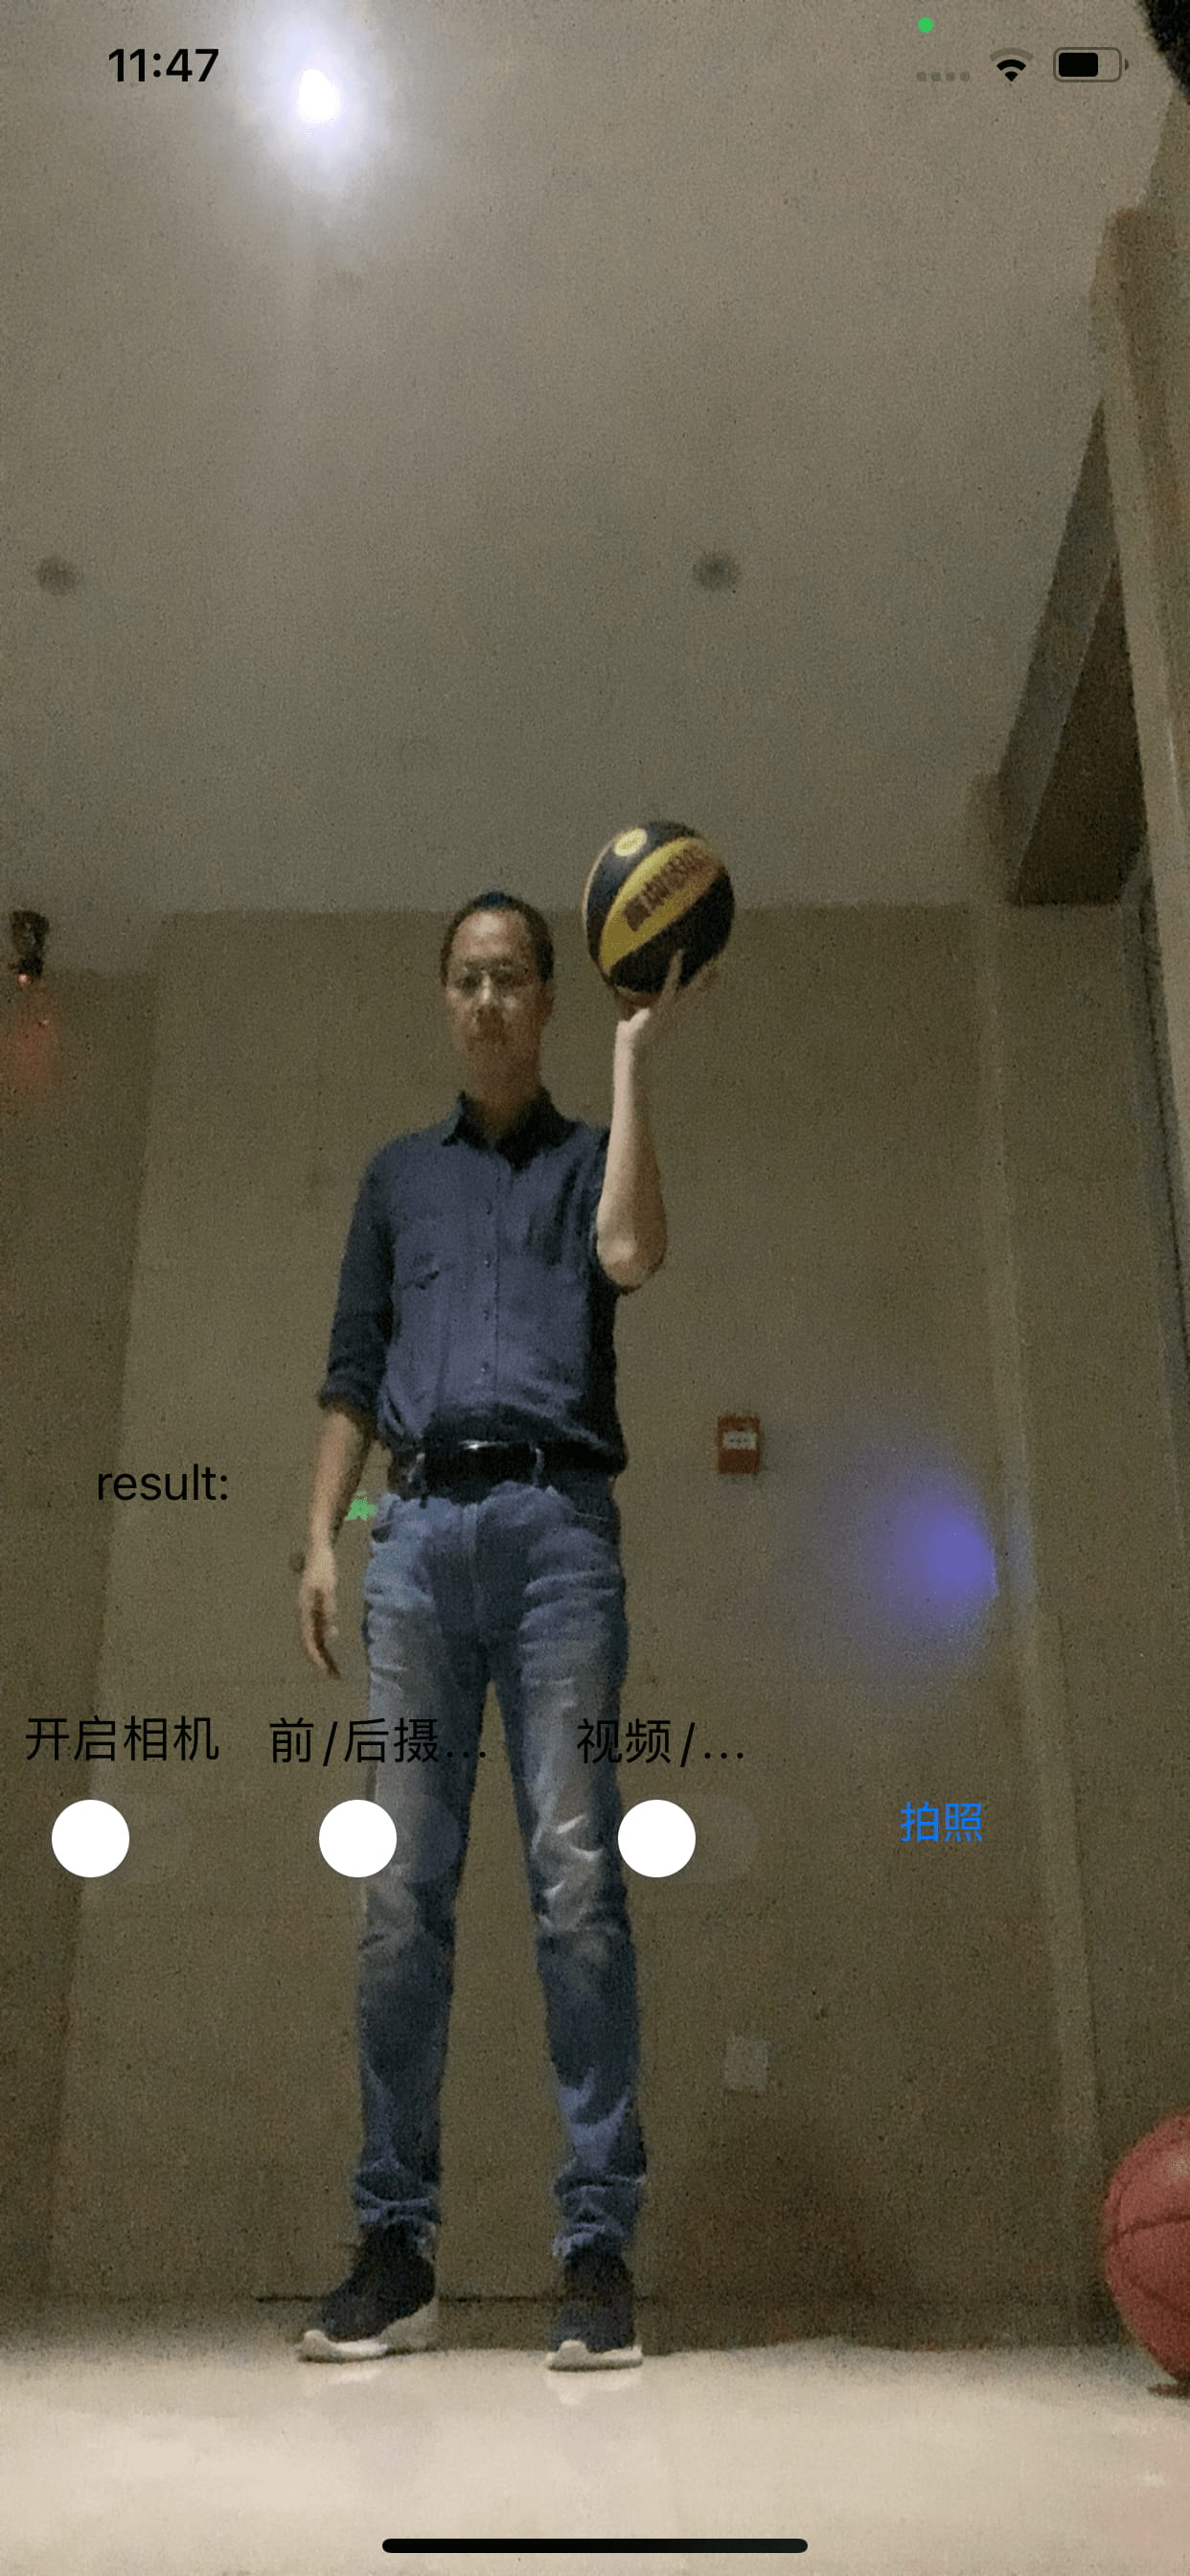ball: (583, 820, 735, 1009), (1105, 2106, 1190, 2405)
